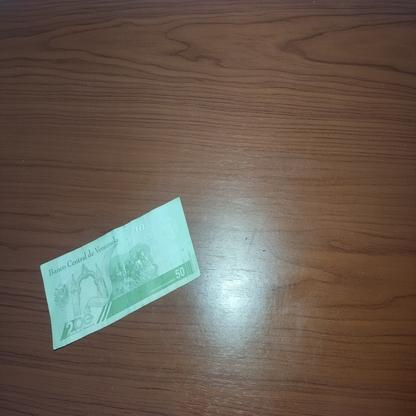fifty-back-vef: (39, 196, 201, 350)
